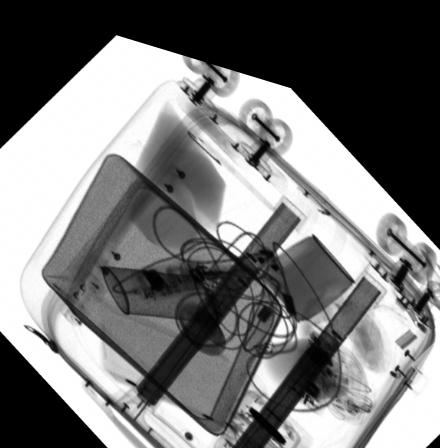Sprayer: (101, 259, 242, 312)
